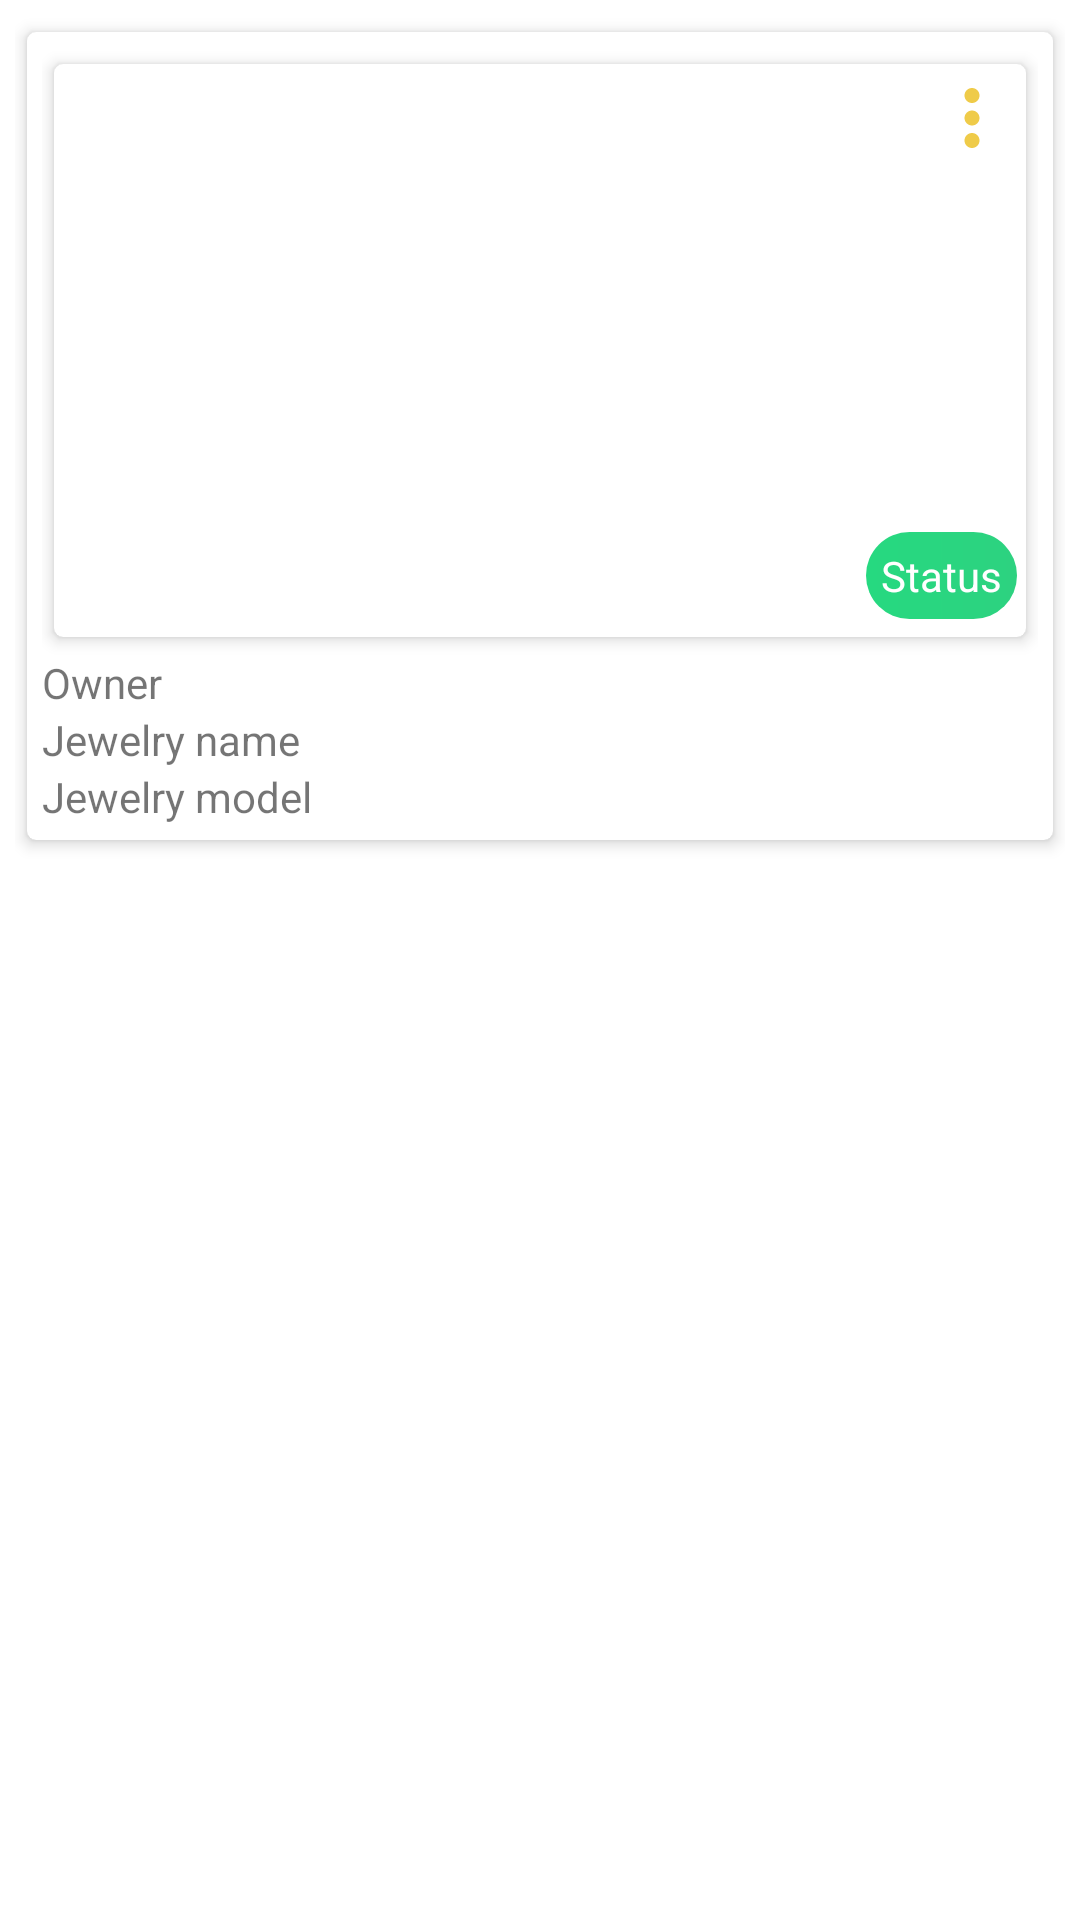

Where to tap for icons on this 1080 x 1920 app screen, as point (x, y):
dot more vert: point (972, 118)
